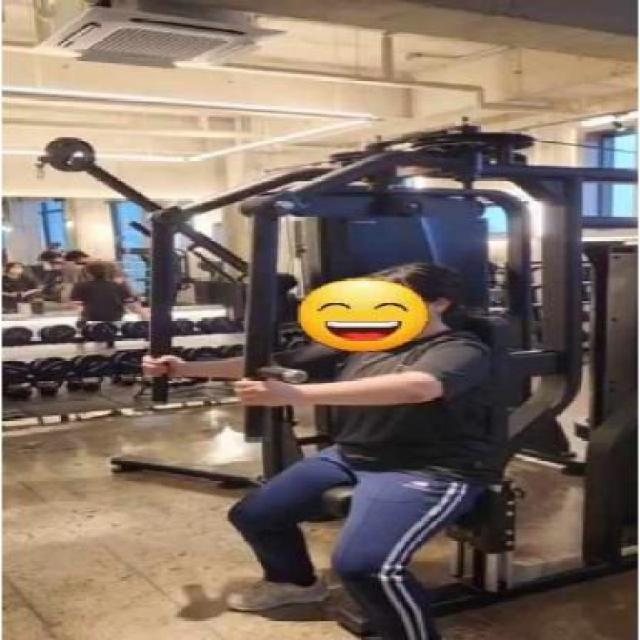chest fly machine: (26, 104, 640, 640)
